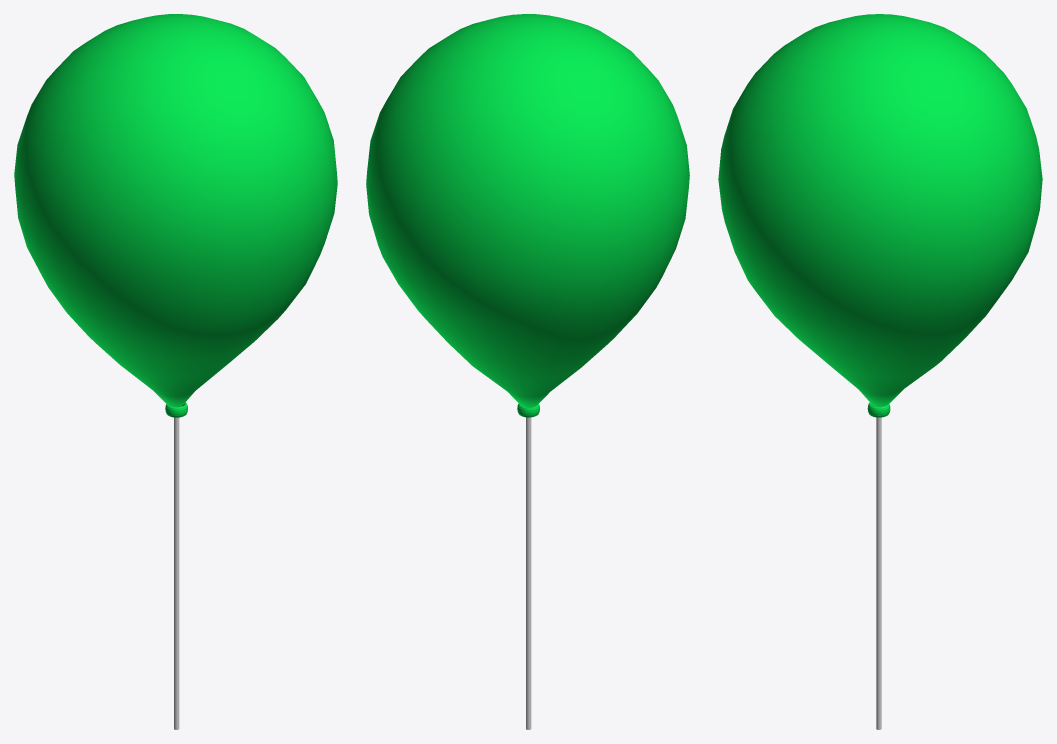
File: balloon_green_1.glb
3 renders of one model, left to right at view 1: azimuth 30°, elevation 25°; view 2: azimuth 150°, elevation 25°; view 3: azimuth 270°, elevation 25°, orthographic.
Visible parts, largest first — view 1: Sphere.010, Cylinder.010; view 2: Sphere.010, Cylinder.010; view 3: Sphere.010, Cylinder.010.
Boxes of the visible parts, x1,y1,x2,y2 form: Sphere.010: (14, 14, 337, 407); Cylinder.010: (174, 417, 179, 729); Sphere.010: (366, 14, 689, 407); Cylinder.010: (526, 417, 531, 729); Sphere.010: (718, 14, 1042, 407); Cylinder.010: (876, 417, 881, 729).
Bounding box in the file's own units: 2 × 4.76 × 2.
